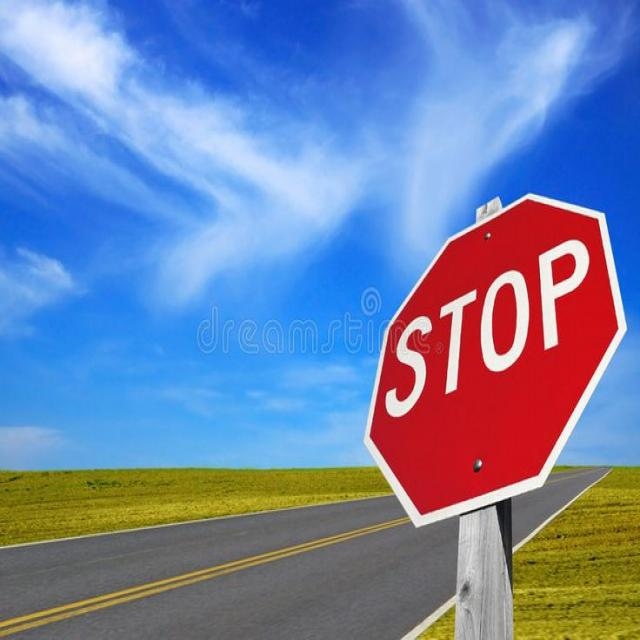stop: (373, 201, 617, 514)
